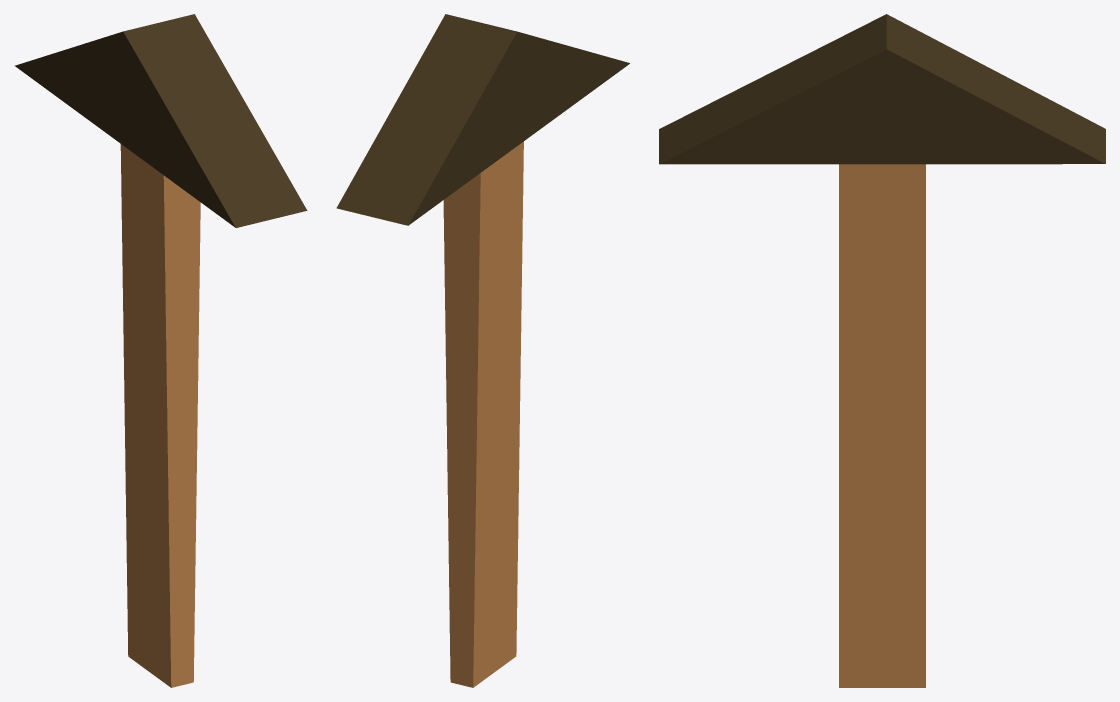
The model's file is Spitzhacke.fbx.
The picture shows the model from 3 angles, left to right: view 1: azimuth 30°, elevation 25°; view 2: azimuth 150°, elevation 25°; view 3: azimuth 270°, elevation 25°; orthographic projection.
Visible parts, largest first — view 1: spitzhacke; view 2: spitzhacke; view 3: spitzhacke.
Part boxes in pixels (left/top/right/bottom): spitzhacke: left=14, top=14, right=307, bottom=687; spitzhacke: left=336, top=14, right=629, bottom=687; spitzhacke: left=659, top=14, right=1105, bottom=687.
Size of the model in its own units: 95.96 by 827 by 515.
